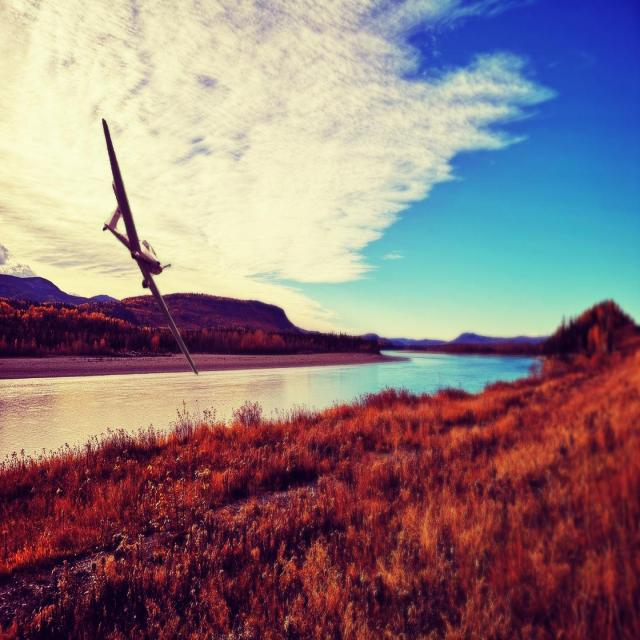airplane: (100, 117, 198, 375)
